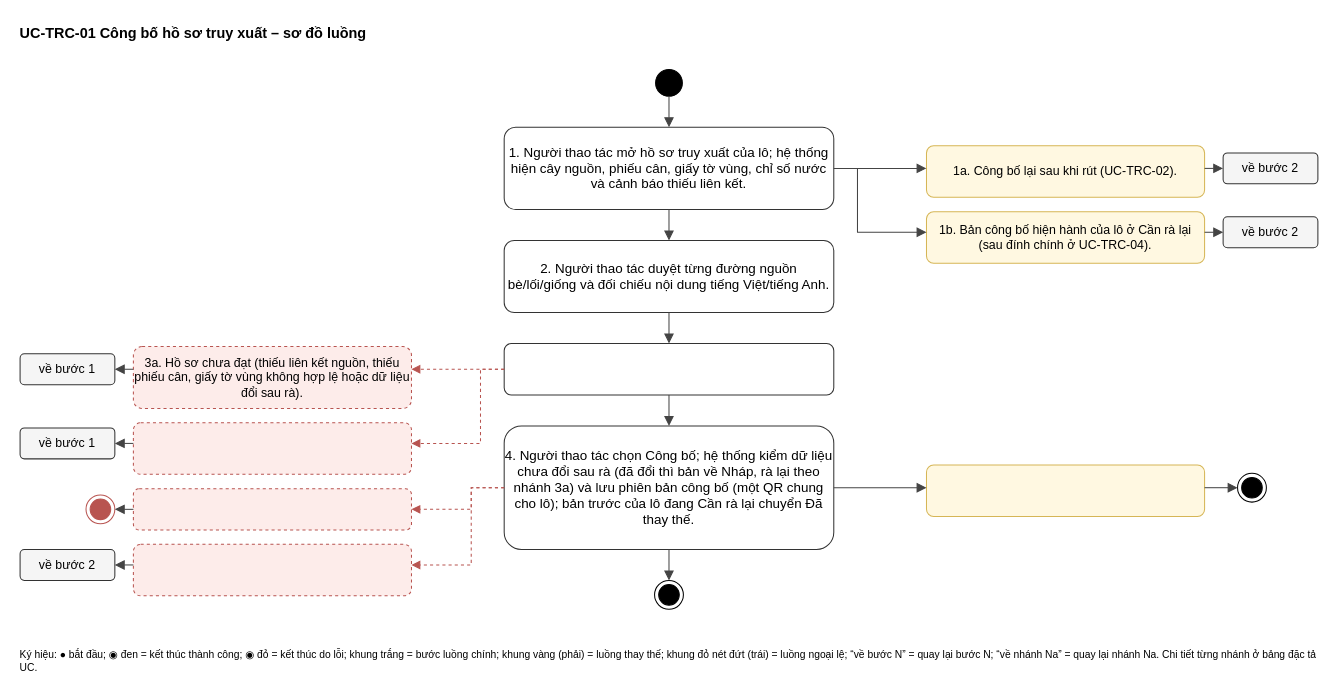
Some shapes in this 1337 by 700 pixel diagram are drawn without their labels. Here are the shapes that lost their labels. From the top down, the centre of each, then its label:
the point at 668,368: 3. Người thao tác ghi kết luận Đạt; hệ thống lưu kết luận gắn phiên bản dữ liệu.
the point at 271,448: 3b. Lô bàn giao ngoại tuyến rà không đạt.
the point at 271,509: 4b. Không đủ quyền công bố.
the point at 1065,490: 4a. Lô đã bàn giao ngoại tuyến (UC-SAL-06 nhánh 5a).
the point at 271,569: 4c. Nội dung tiếng Việt/tiếng Anh không khớp.
